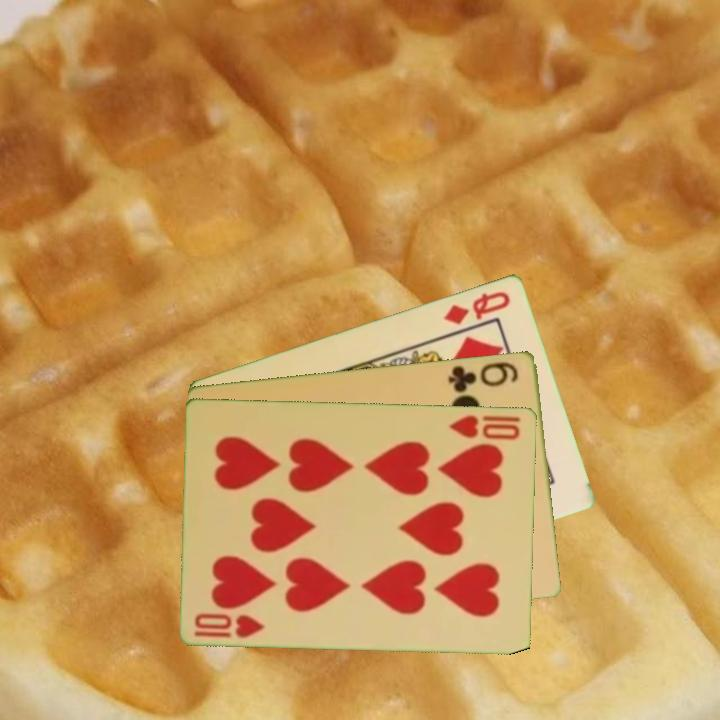10h: (446, 411, 523, 443), (191, 609, 269, 640)
6c: (445, 358, 522, 395)
Qd: (440, 287, 514, 327)
